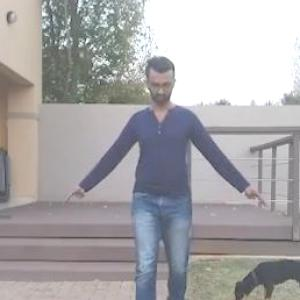land: (73, 63, 246, 299)
